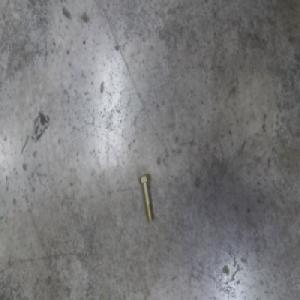Bolt: (139, 170, 154, 221)
